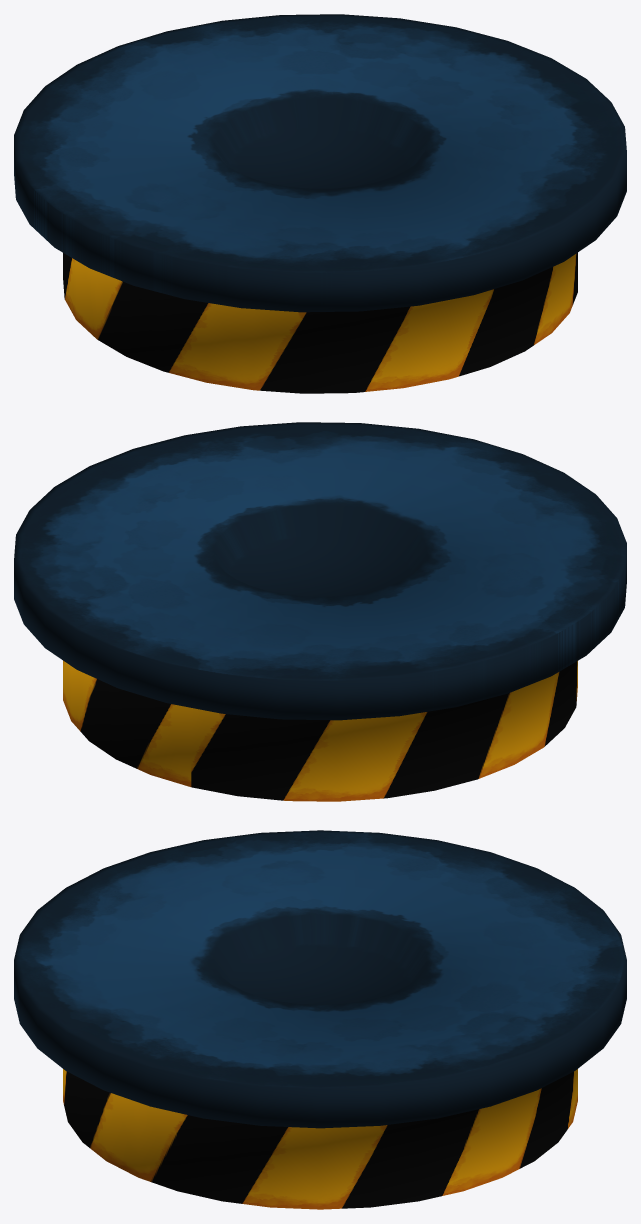
Rendered from FlameTrower.fbx.
3 views of the same model, one above another, from view 1: azimuth 30°, elevation 25°; view 2: azimuth 150°, elevation 25°; view 3: azimuth 270°, elevation 25° (orthographic).
Parts seen in each view (by area): view 1: Cylinder; view 2: Cylinder; view 3: Cylinder.
Boxes of the visible parts, left/top/right/bottom form: Cylinder: left=14, top=14, right=626, bottom=393; Cylinder: left=14, top=422, right=626, bottom=801; Cylinder: left=14, top=830, right=626, bottom=1209.
Size of the model in its own units: 2.38 by 0.6037 by 2.38.
